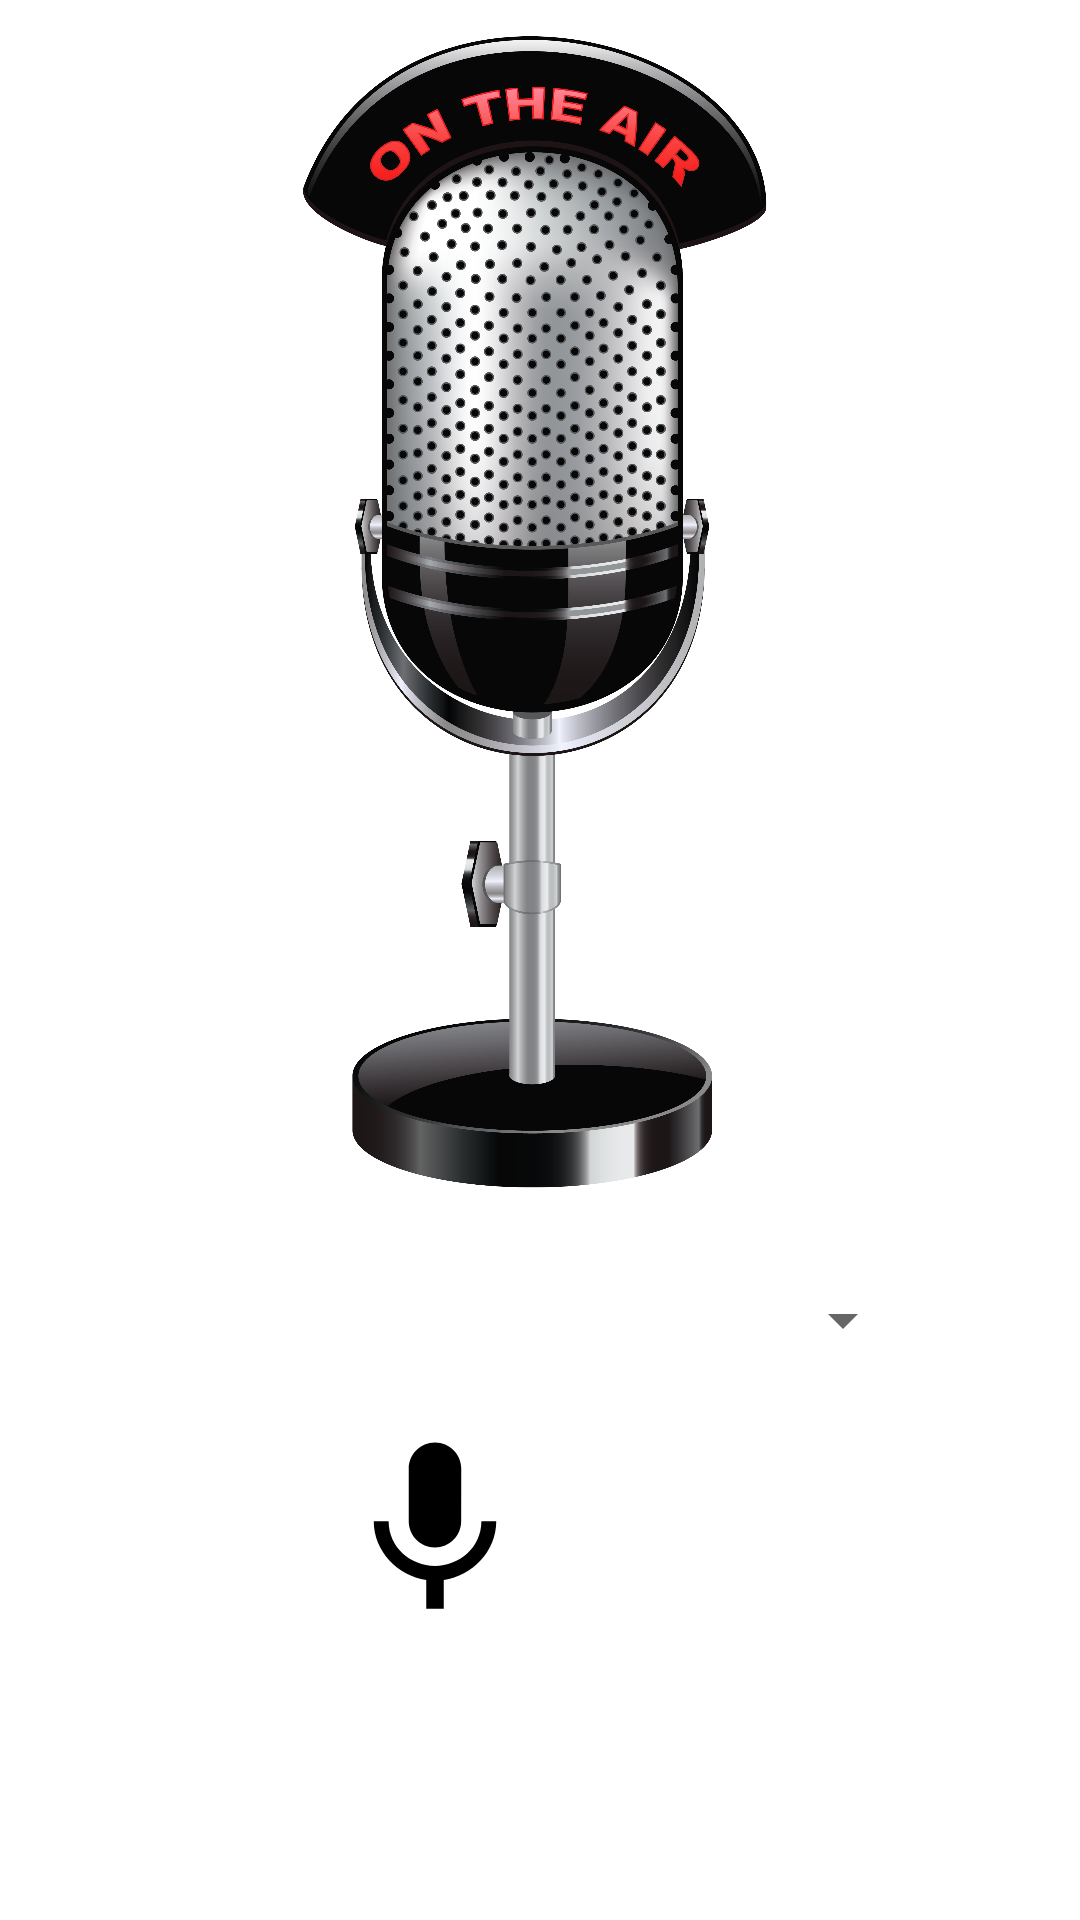

Where to tap for icons on this 1080 x 1920 app screen, as [x,y]:
mic: [435,1525]
